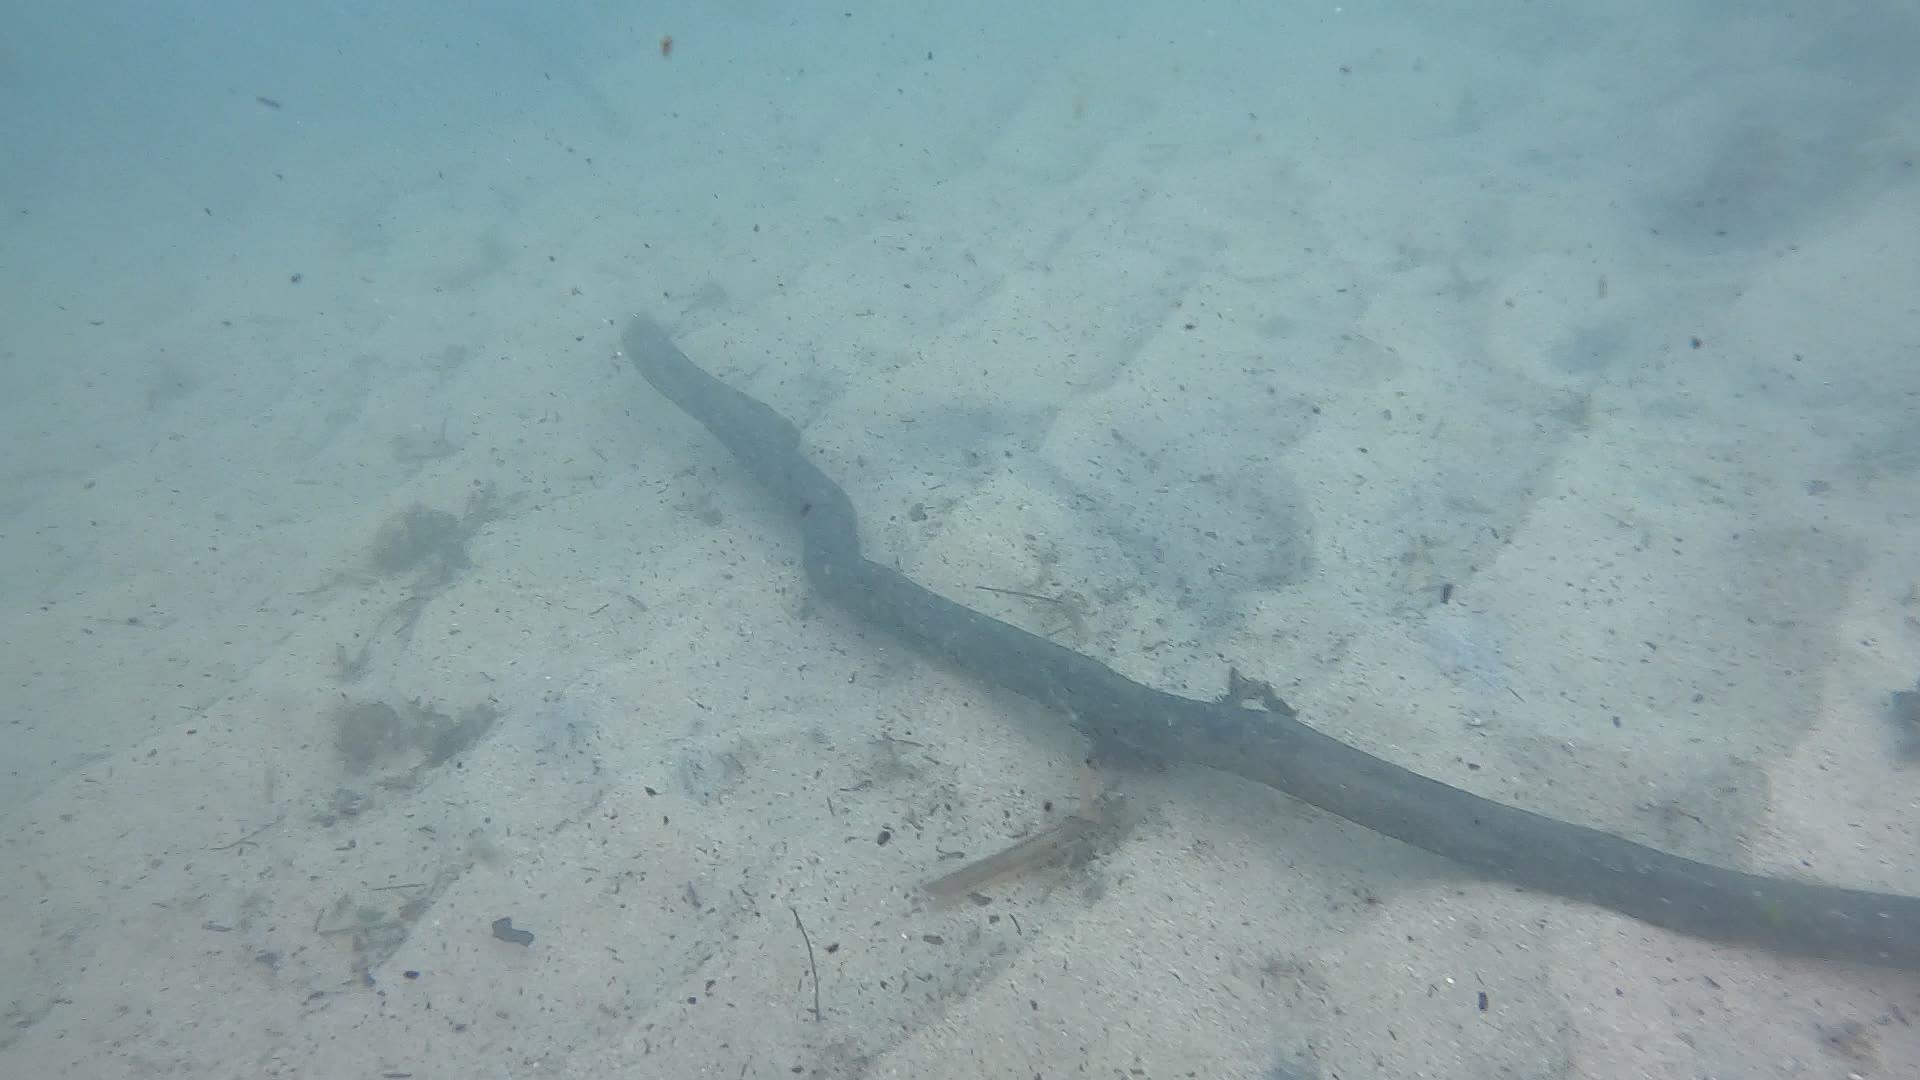wood: (618, 305, 1920, 963)
